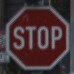stopsign: (5, 7, 71, 70)
